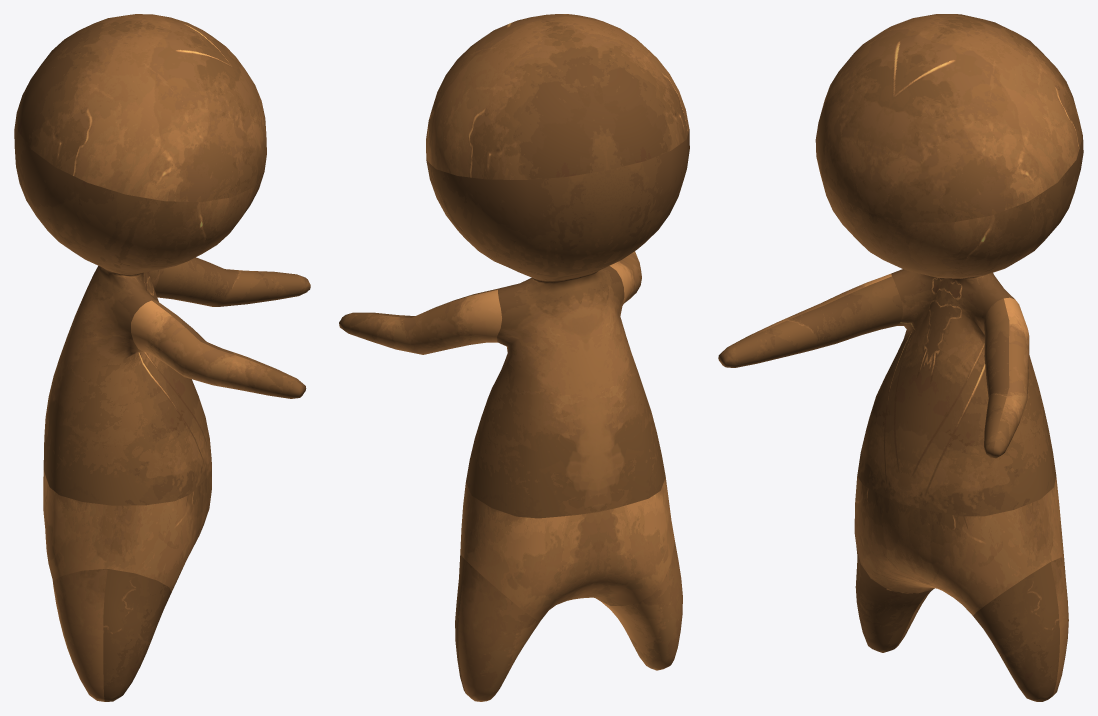
File: personagem5.fbx
The picture shows the model from 3 angles, left to right: view 1: azimuth 30°, elevation 25°; view 2: azimuth 150°, elevation 25°; view 3: azimuth 270°, elevation 25°; orthographic projection. The views are drawn at different scales.
Parts seen in each view (by area): view 1: polySurface98; view 2: polySurface98; view 3: polySurface98.
Boxes of the visible parts, x1,y1,x2,y2 form: polySurface98: (14, 14, 310, 701); polySurface98: (339, 14, 689, 701); polySurface98: (718, 14, 1083, 701).
Size of the model in its own units: 30.52 by 61.4 by 30.94.
